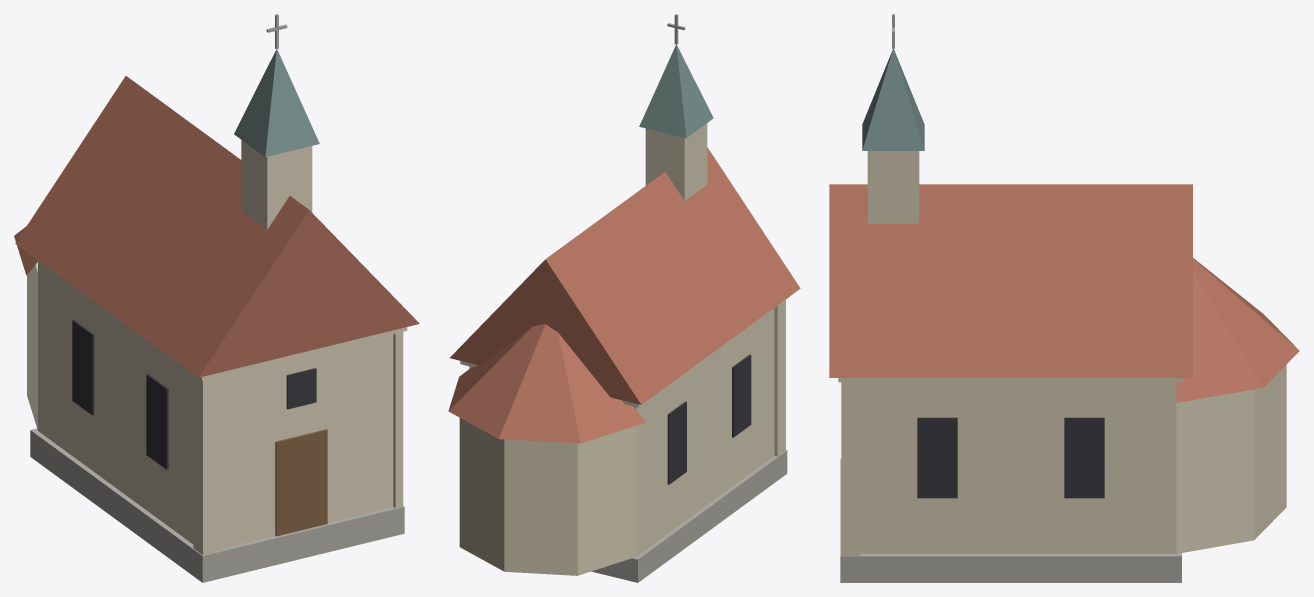
File: kaple.glb
The picture shows the model from 3 angles, left to right: view 1: azimuth 30°, elevation 25°; view 2: azimuth 150°, elevation 25°; view 3: azimuth 270°, elevation 25°; orthographic projection. The views are drawn at different scales.
Parts seen in each view (by area): view 1: strecha, lod, sokl, lizena, dvere, bana, vezicka, lizena.001, okno, okno.002, apsida, rimsa (+1 smaller); view 2: strecha, apsida, lod, strecha_apsidy, sokl, bana, vezicka, lizena, okno.002, okno; view 3: strecha, lod, apsida, sokl, strecha_apsidy, bana, vezicka, lizena.001, okno.001, okno.003, rimsa.
Part boxes in pixels (left/top/right/bottom): strecha: left=15, top=76, right=419, bottom=377; lod: left=38, top=261, right=393, bottom=547; sokl: left=30, top=428, right=404, bottom=582; lizena: left=193, top=375, right=223, bottom=555; dvere: left=275, top=429, right=327, bottom=536; bana: left=234, top=49, right=319, bottom=156; vezicka: left=241, top=140, right=312, bottom=229; lizena.001: left=393, top=332, right=403, bottom=508; okno: left=146, top=374, right=168, bottom=469; okno.002: left=72, top=319, right=94, bottom=415; apsida: left=27, top=262, right=37, bottom=429; rimsa: left=28, top=253, right=407, bottom=380; strecha: left=449, top=147, right=800, bottom=404; apsida: left=459, top=418, right=636, bottom=575; lod: left=469, top=308, right=774, bottom=556; strecha_apsidy: left=448, top=324, right=645, bottom=443; sokl: left=591, top=450, right=787, bottom=582; bana: left=639, top=44, right=713, bottom=138; vezicka: left=645, top=123, right=707, bottom=200; lizena: left=774, top=300, right=785, bottom=456; okno.002: left=667, top=401, right=686, bottom=484; okno: left=732, top=354, right=751, bottom=437; strecha: left=829, top=184, right=1192, bottom=377; lod: left=860, top=382, right=1176, bottom=553; apsida: left=1176, top=365, right=1286, bottom=553; sokl: left=840, top=458, right=1181, bottom=582; strecha_apsidy: left=1176, top=258, right=1299, bottom=402; bana: left=862, top=48, right=924, bottom=150; vezicka: left=867, top=151, right=919, bottom=223; lizena.001: left=841, top=382, right=860, bottom=555; okno.001: left=917, top=417, right=957, bottom=498; okno.003: left=1064, top=417, right=1104, bottom=498; rimsa: left=838, top=378, right=1183, bottom=382.
Bounding box in the file's own units: 6.9 × 15.6 × 12.81.
